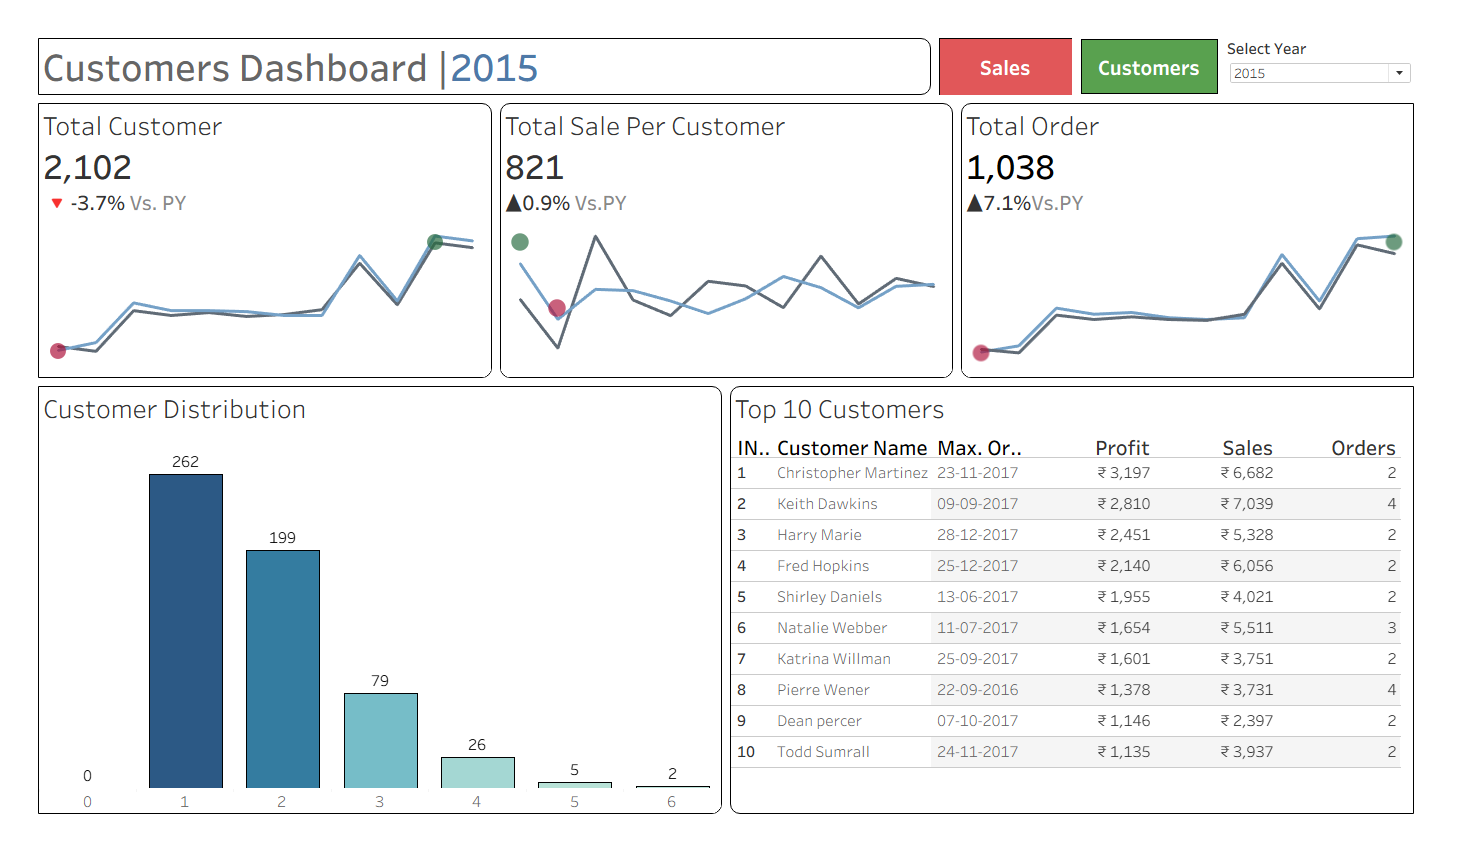

The dashboard page shown, as its layout file describes it:
{"tool":"tableau","page":{"name":"Customer Dashboard","canvas":[1400,800],"ordinal":0},"visuals":[{"type":"text","box":[8,8,901,65]},{"type":"dashboard-object","box":[909,8,141,65]},{"type":"dashboard-object","box":[1050,8,147,65]},{"type":"parameter","param":"[Parameters].[Parameter 0851597059166211]","box":[1197,8,195,56]},{"type":"worksheet","title":"KPI Customer","mark":"Automatic","rows":["Calculation_0851597285527585"],"cols":["Order Date"],"box":[8,73,461.6,283]},{"type":"worksheet","title":"KPI Sale per Customer","mark":"Automatic","rows":["Calculation_0851597284778016"],"cols":["Order Date"],"box":[469.6,73,461.2,283]},{"type":"worksheet","title":"KPI Orders","mark":"Automatic","rows":["Calculation_0851597382205486"],"cols":["Order Date"],"box":[930.8,73,461.2,283]},{"type":"worksheet","title":"Customer Distribution","mark":"Bar","rows":["Calculation_0851597282435100"],"cols":["Calculation_0851597386133553"],"box":[8,356,692,436]},{"type":"worksheet","title":"Top Customer","mark":"Automatic","rows":["Calculation_0851597391314999","Customer Name","Order Date"],"box":[700,356,692,436]}]}

Visuals, with their boxes in screenshot pixels (x1, y1, x2, y2), scaled from the page's 1400x800 canvas onto the 1472x862 screenshot:
text: (8, 9, 956, 79)
dashboard-object: (956, 9, 1104, 79)
dashboard-object: (1104, 9, 1259, 79)
parameter: (1259, 9, 1464, 69)
"KPI Customer" worksheet: (8, 79, 494, 384)
"KPI Sale per Customer" worksheet: (494, 79, 979, 384)
"KPI Orders" worksheet: (979, 79, 1464, 384)
"Customer Distribution" worksheet (Bar marks): (8, 384, 736, 853)
"Top Customer" worksheet: (736, 384, 1464, 853)
